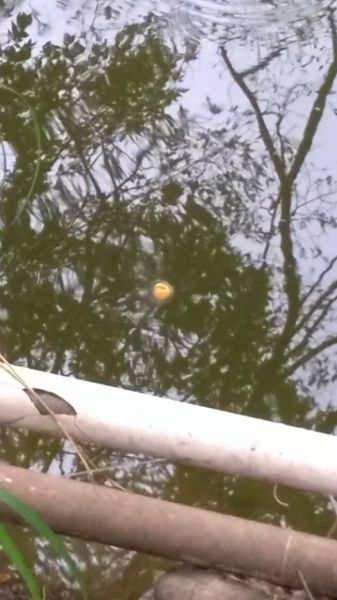eggs: (147, 278, 176, 302)
